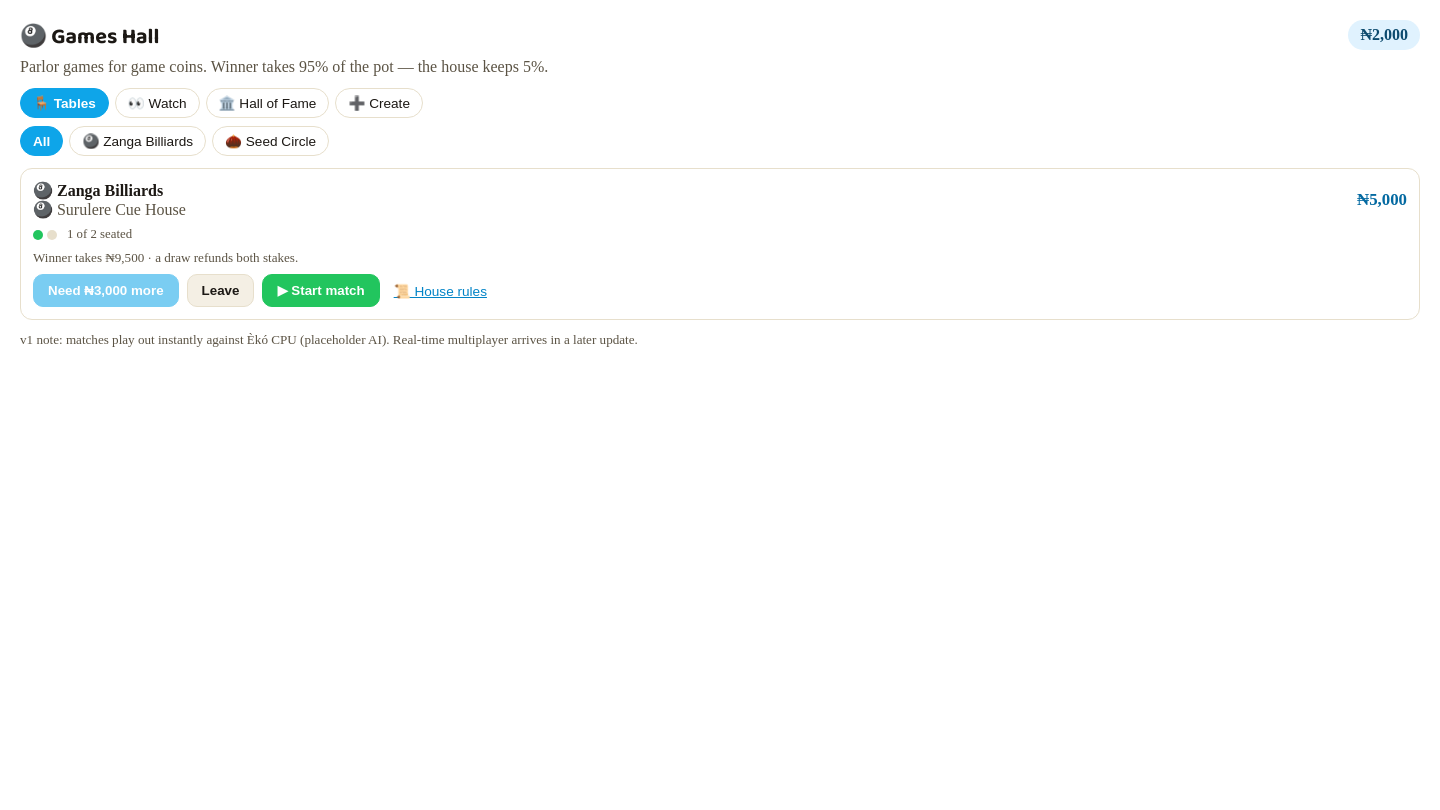
Test: GamesApp › create rail shows the stake math before creating
Click the tab "➕ Create" at (379, 103), box [335,88,423,118]
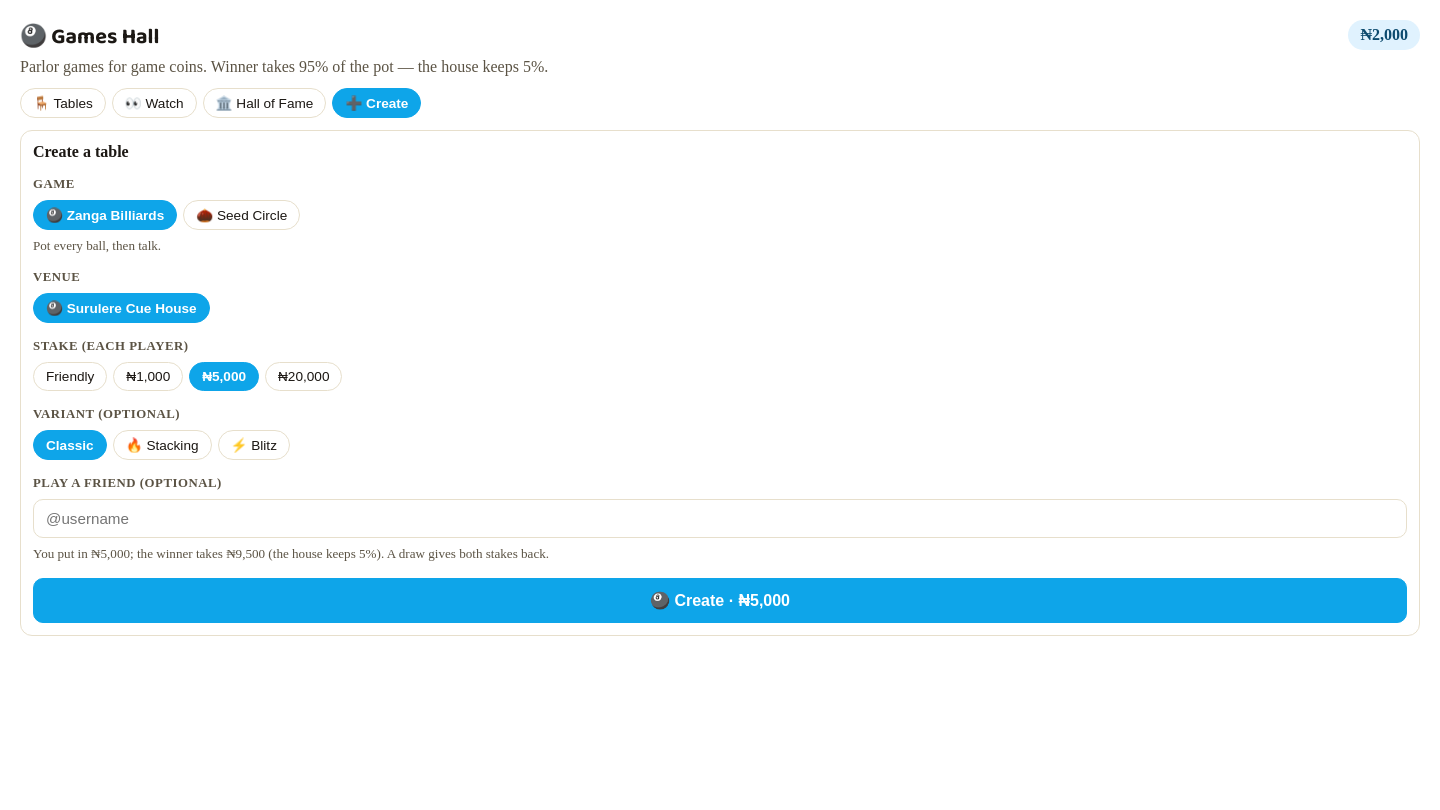
Expected: the text "the winner takes ₦9,500" is shown, [33,546,549,561]
Expected: the button "🎱 Create · ₦5,000" is shown, [33,578,1407,623]
